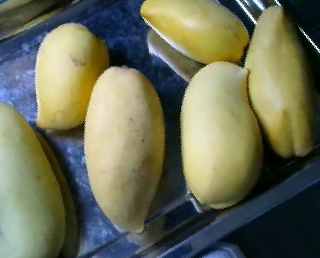Mango: (83, 66, 165, 233), (179, 61, 263, 209), (243, 5, 320, 156), (0, 101, 67, 257), (34, 23, 109, 129), (140, 0, 250, 66)
